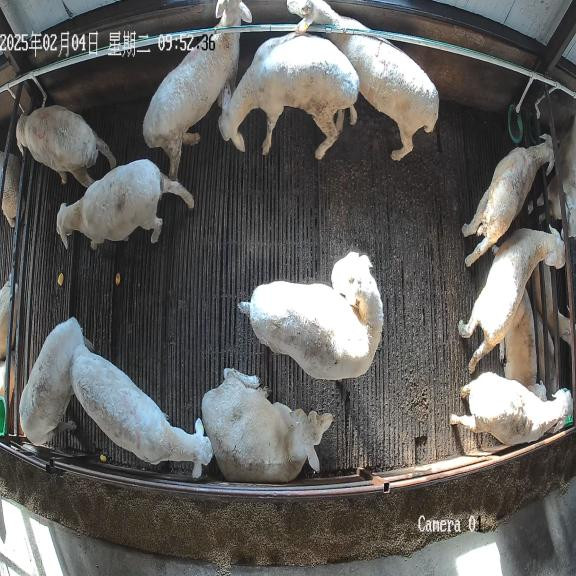drinking: (16, 105, 116, 188)
lying: (202, 368, 334, 483), (500, 290, 547, 400)
stand: (287, 0, 439, 160), (143, 0, 252, 180), (70, 345, 213, 478), (238, 252, 384, 381), (219, 32, 359, 159), (458, 226, 565, 373), (57, 159, 194, 248), (462, 134, 554, 266), (19, 317, 94, 445), (450, 372, 572, 445)
